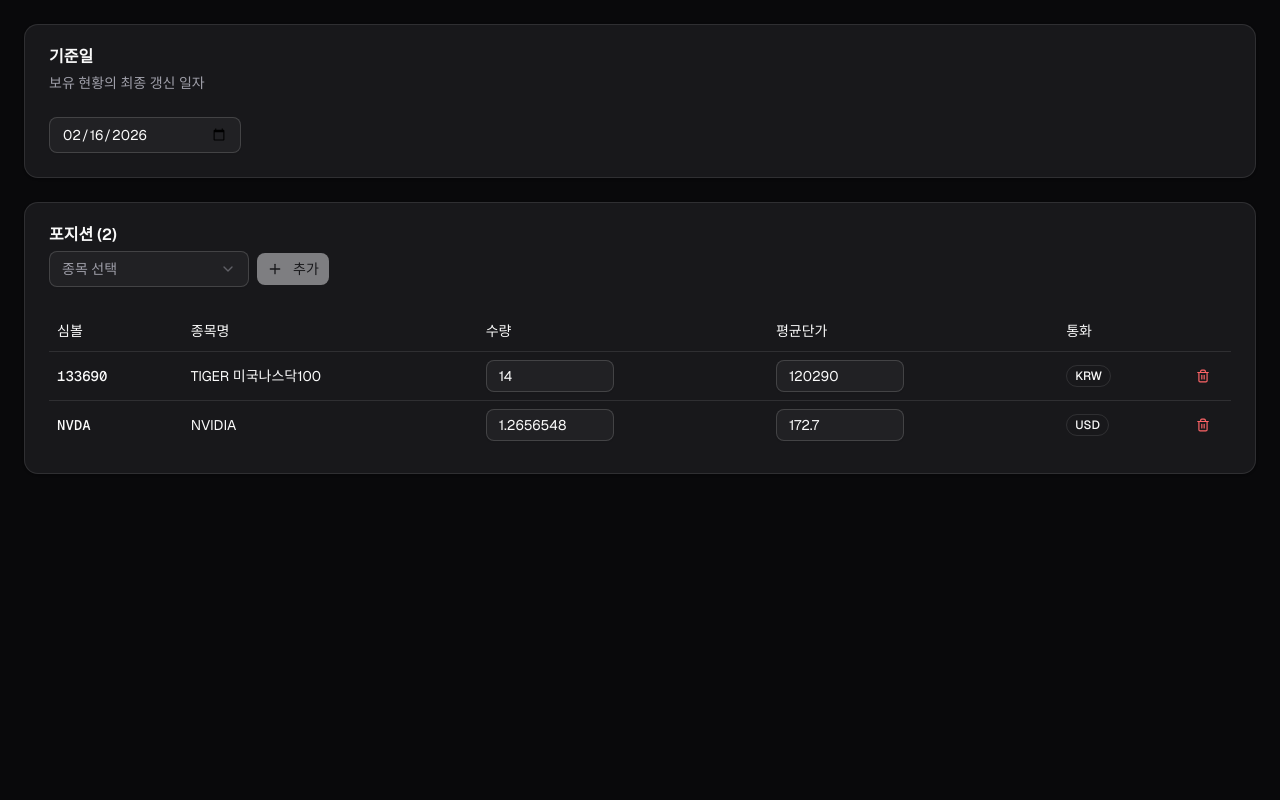
Scenario: HoldingsEditor › 포지션 삭제 › 삭제 버튼으로 포지션을 제거한다
The image size is (1280, 800).
Click the button without text in the row of "NVDA": (1203, 424) x1=1189 y1=410 x2=1217 y2=438
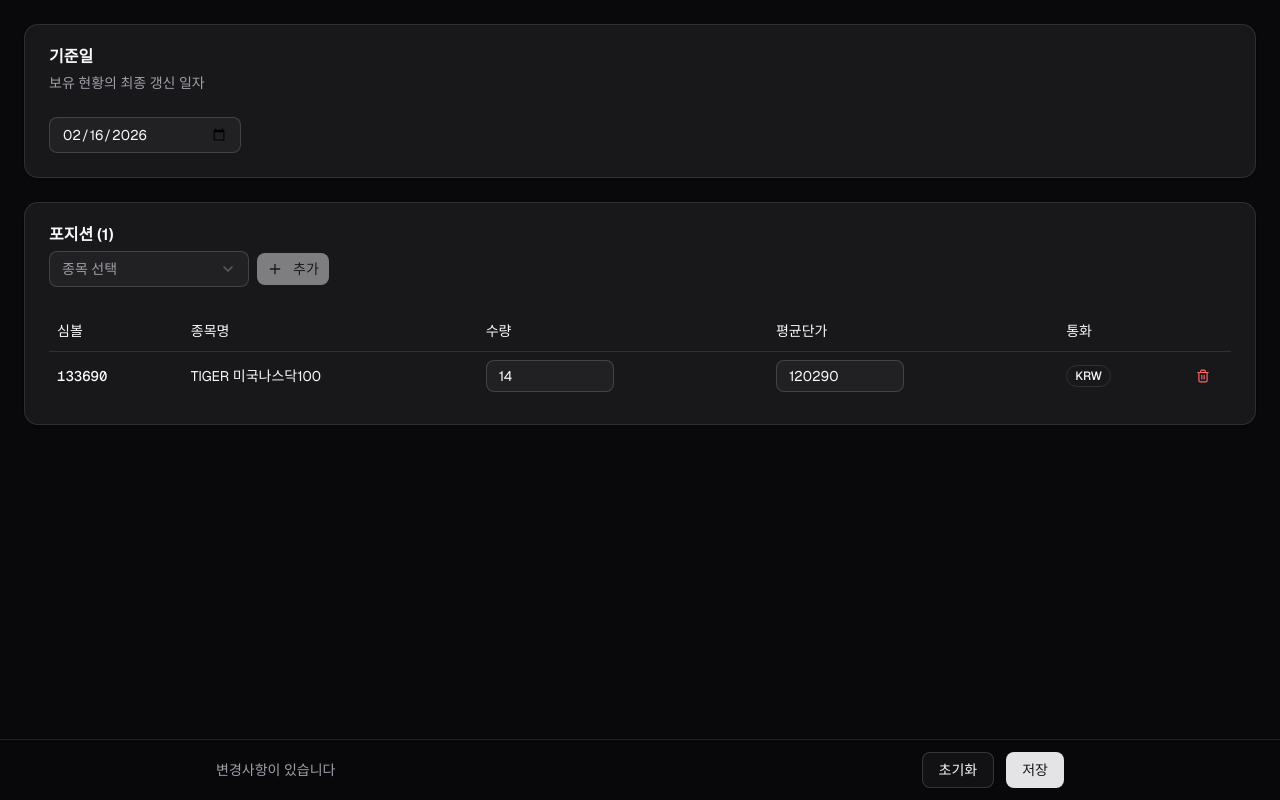
Expected: the text "NVIDIA" is gone
Expected: the text "변경사항이 있습니다" is shown, x1=216 y1=760 x2=335 y2=780
